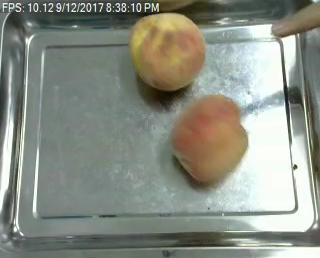Peach: (171, 94, 249, 183), (128, 12, 206, 91)
